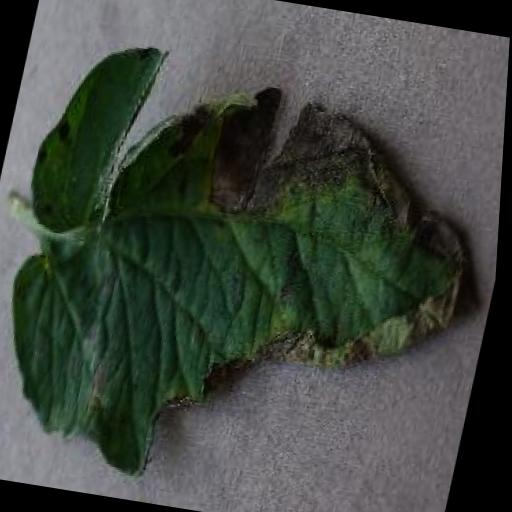Early Blight: (0, 30, 507, 512)
